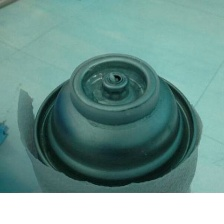aerosol_cans: (25, 44, 200, 224)
